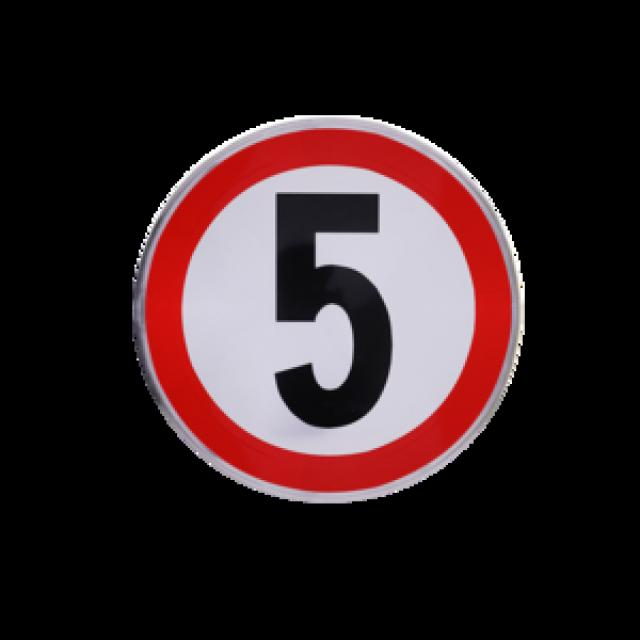speed limit 10: (127, 117, 522, 506)
